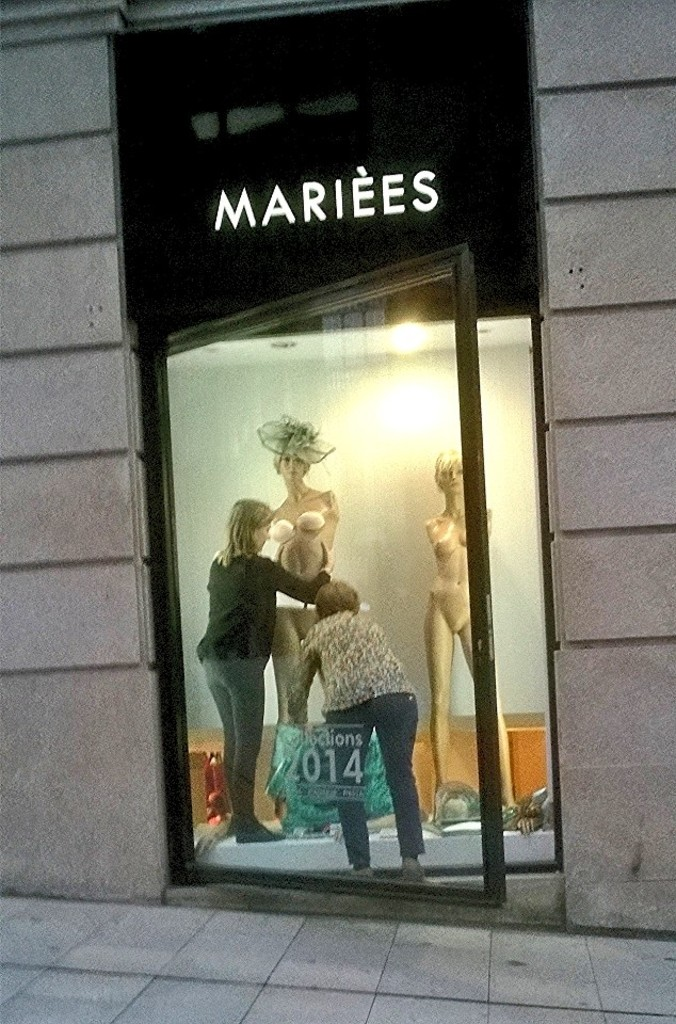Footwear: (222, 814, 287, 845), (400, 857, 431, 887), (351, 867, 373, 882)
